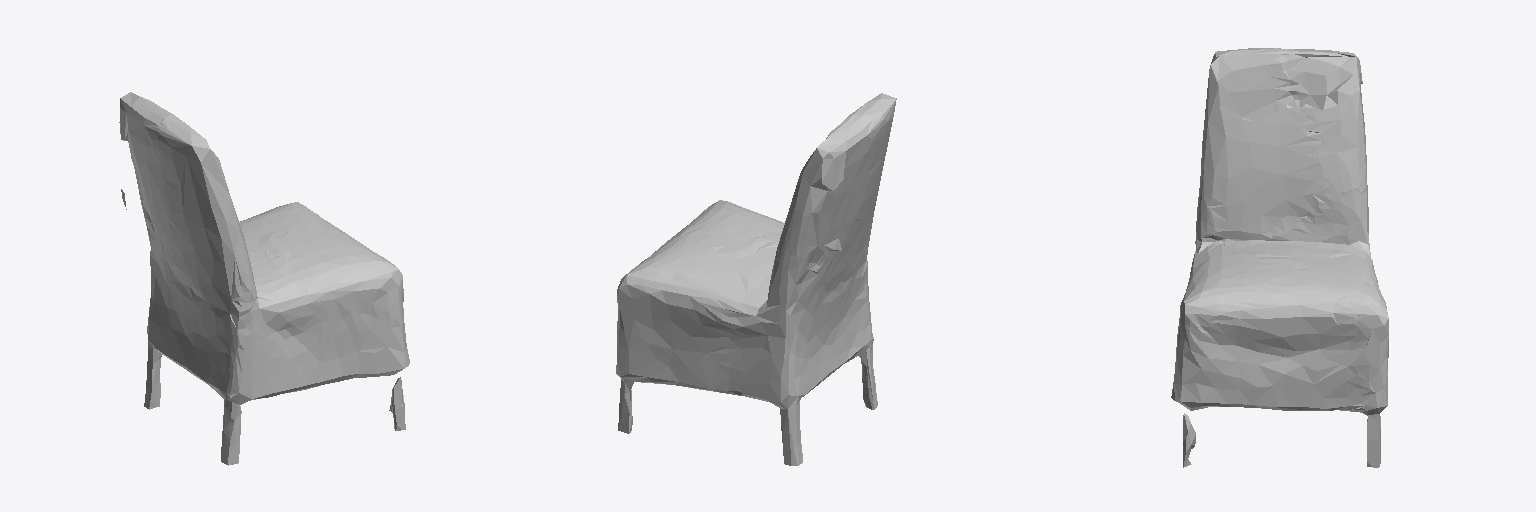
The model's file is sofa chair.obj.
3 views of the same model, side by side, from view 1: azimuth 30°, elevation 25°; view 2: azimuth 150°, elevation 25°; view 3: azimuth 270°, elevation 25° (orthographic).
Visible parts, largest first — view 1: mmGroup0; view 2: mmGroup0; view 3: mmGroup0.
Part boxes in pixels (x1,y1,x2,y2): mmGroup0: (119,92,409,465); mmGroup0: (616,93,896,465); mmGroup0: (1171,48,1388,467).
Bounding box in the file's own units: 4.33 × 6.4 × 3.88.